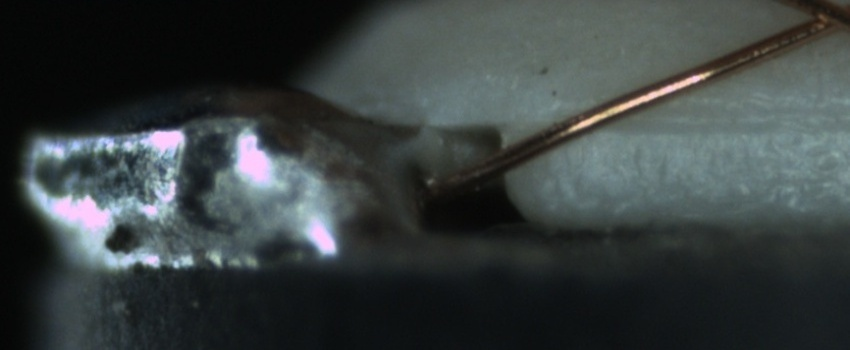CL: (780, 0, 849, 43)
DL: (606, 84, 844, 153)
